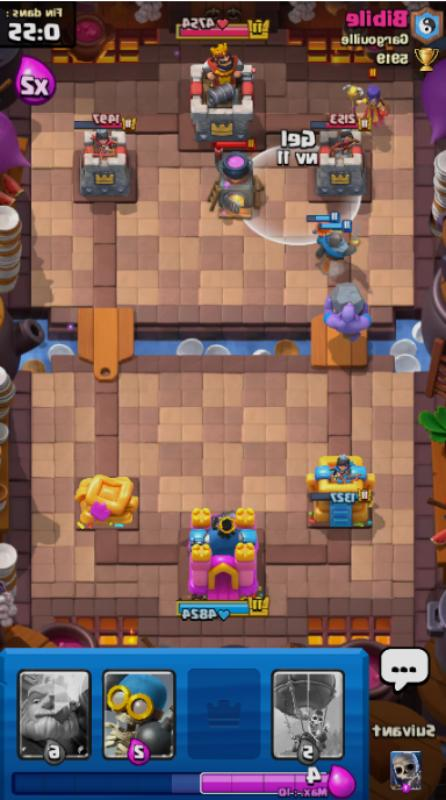chevalier: (310, 210, 364, 272)
valkyrie: (304, 198, 344, 248)
